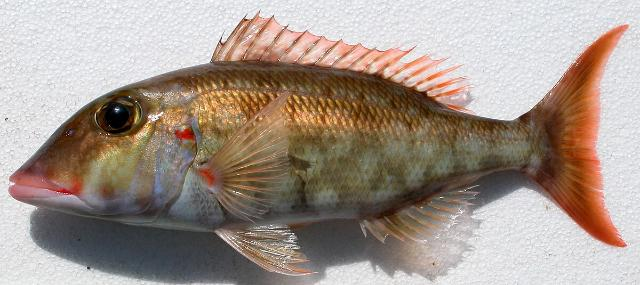Mulut: (2, 158, 74, 234)
Sirip Anal: (356, 177, 492, 260)
Sirip Dada: (187, 78, 305, 230)
Sirip Ekor: (516, 15, 636, 257)
Sirip Perut: (205, 213, 322, 283)
Sirip Punggung: (205, 6, 482, 124)
